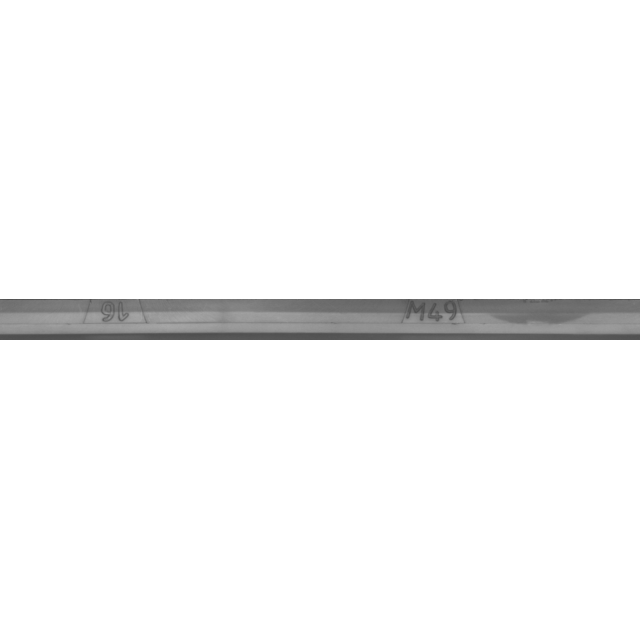mohao: (348, 270, 548, 370)
xuehao: (16, 270, 216, 370)
